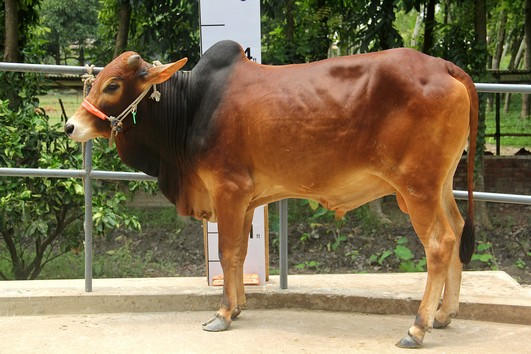cow: (60, 34, 485, 347)
